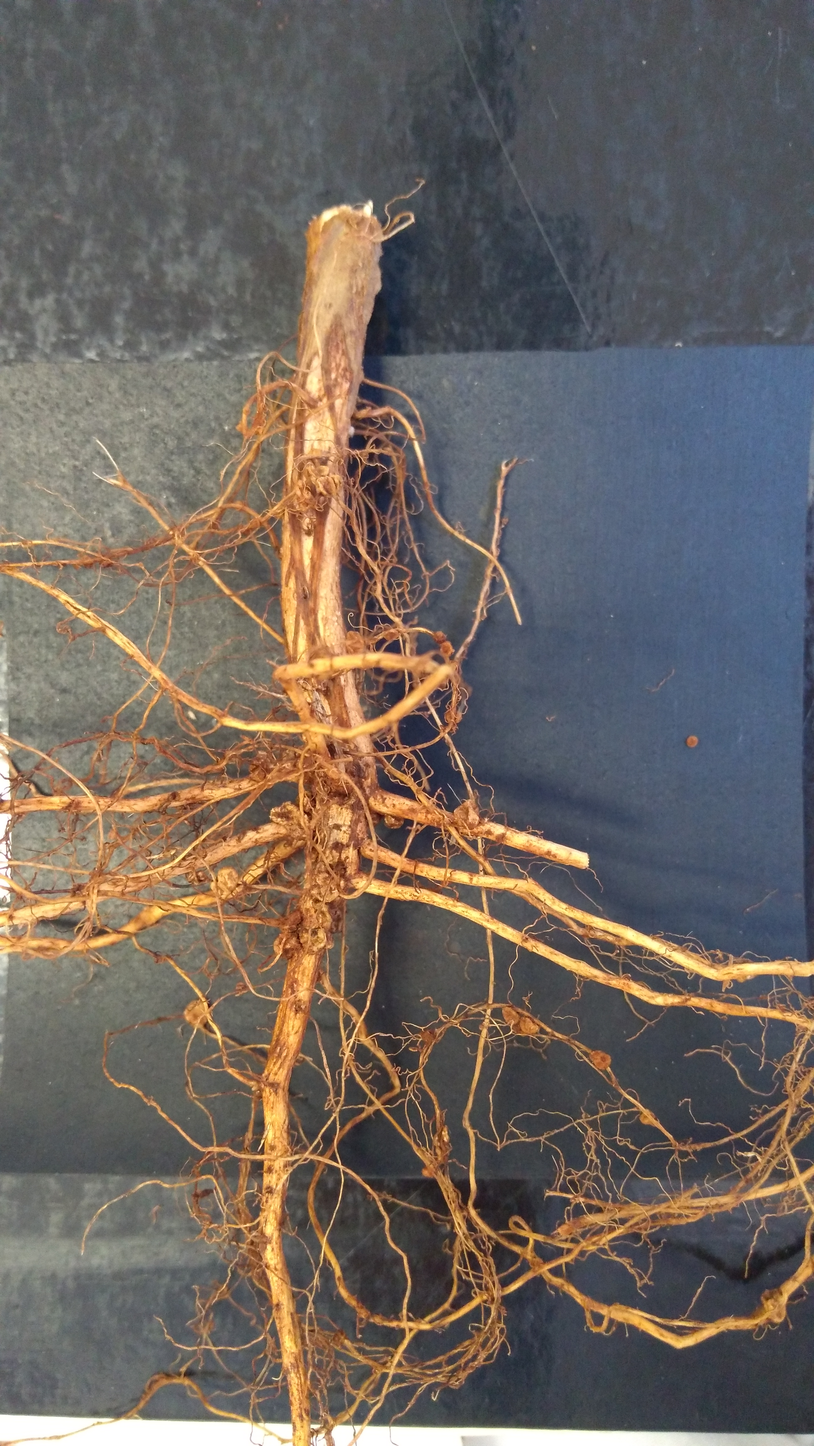nodule: (296, 893, 334, 931), (309, 870, 345, 906), (209, 863, 243, 900), (759, 1285, 788, 1328), (326, 802, 353, 845), (267, 799, 306, 828), (181, 996, 212, 1030), (453, 798, 482, 833), (297, 926, 330, 956), (271, 929, 298, 962), (587, 1048, 615, 1074), (343, 628, 366, 658), (246, 758, 272, 784), (313, 474, 338, 499), (294, 789, 318, 815), (518, 1011, 542, 1037), (278, 910, 302, 935), (292, 488, 313, 514), (498, 1004, 520, 1028), (383, 812, 408, 831), (310, 463, 329, 484), (438, 639, 457, 659), (638, 1109, 659, 1127), (431, 1134, 444, 1163), (511, 1021, 529, 1040), (330, 472, 345, 494), (684, 733, 701, 752), (333, 1327, 349, 1345), (381, 628, 401, 642), (445, 709, 463, 724), (431, 630, 448, 645), (440, 1123, 451, 1143), (420, 1164, 435, 1178), (235, 981, 247, 997)
